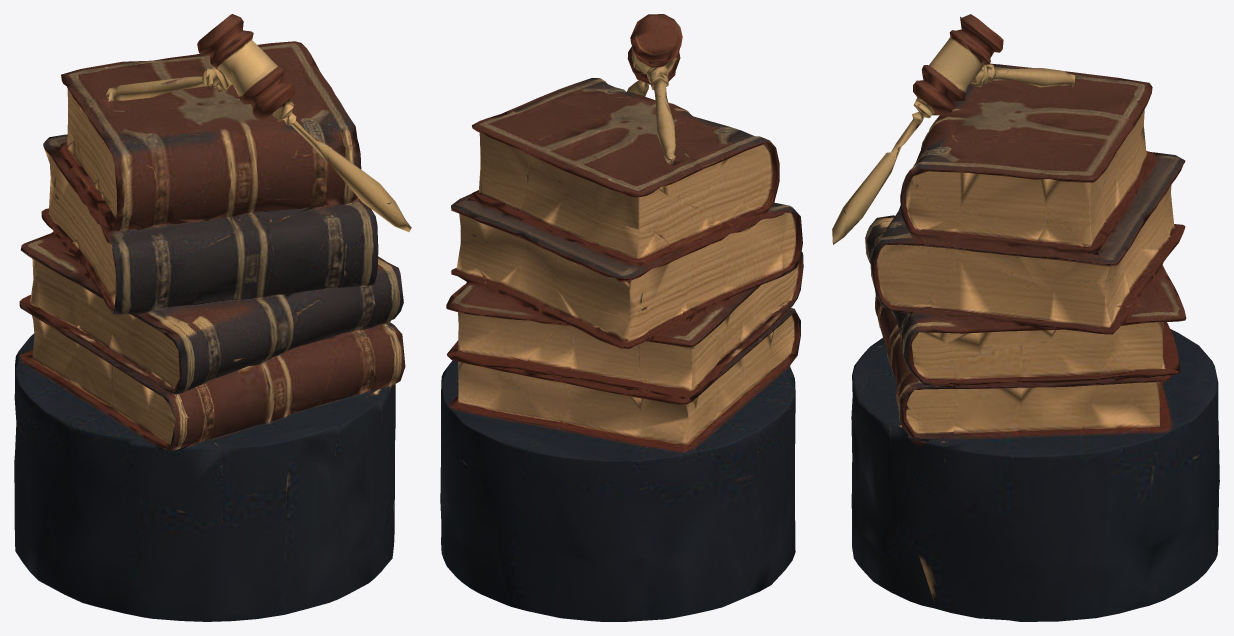
Rendered from co_books_p.glb.
The picture shows the model from 3 angles, left to right: view 1: azimuth 30°, elevation 25°; view 2: azimuth 150°, elevation 25°; view 3: azimuth 270°, elevation 25°; orthographic projection. The views are drawn at different scales.
Size of the model in its own units: 1.2 by 1.9 by 1.27.
Materials: 1 (1 with a texture image).
